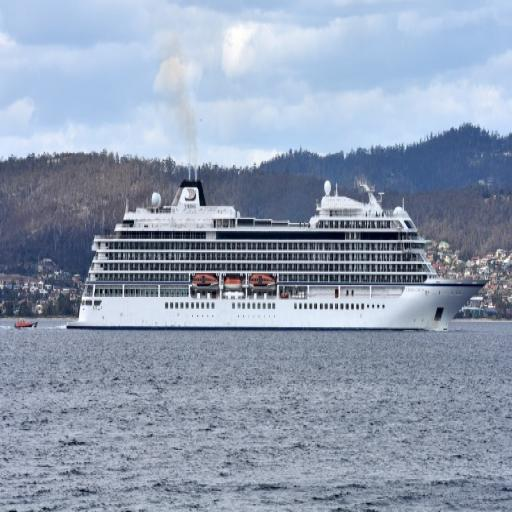cruises: (73, 157, 492, 341)
